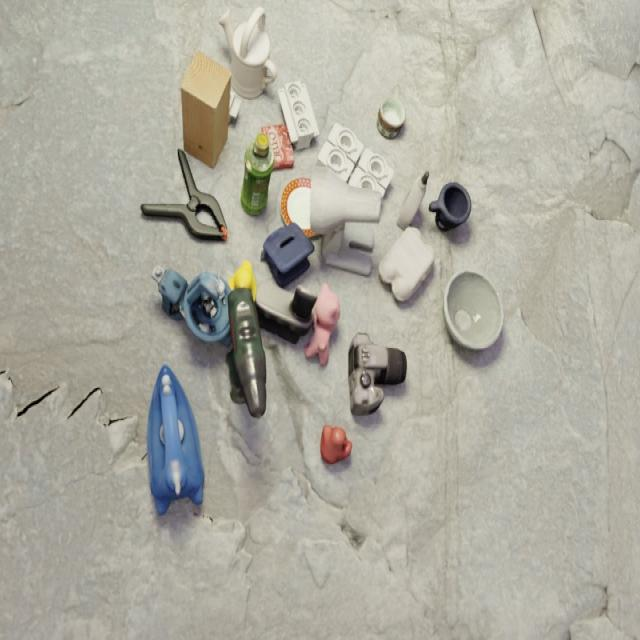Other Objects: (147, 365, 203, 513), (141, 149, 227, 239), (310, 167, 381, 275), (180, 51, 230, 167), (153, 268, 230, 343), (318, 123, 393, 195), (220, 7, 276, 97), (228, 288, 265, 417), (348, 333, 406, 415), (443, 271, 501, 351), (378, 227, 433, 301), (255, 280, 316, 343), (261, 223, 314, 287), (304, 283, 339, 365), (240, 133, 273, 215), (278, 81, 318, 148), (281, 177, 314, 237), (429, 183, 470, 231), (397, 171, 428, 229), (261, 124, 294, 169), (320, 425, 352, 464), (376, 99, 405, 137), (228, 260, 255, 300)
